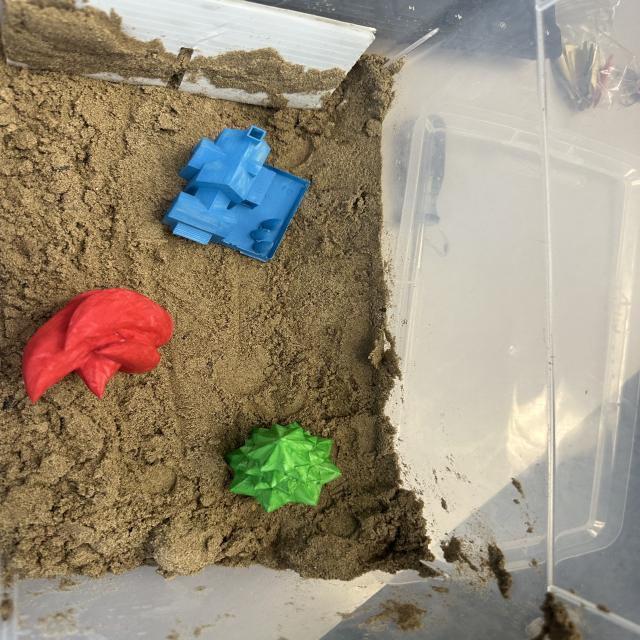fire: (24, 288, 174, 401)
house: (159, 128, 312, 263)
tree: (226, 420, 342, 512)
